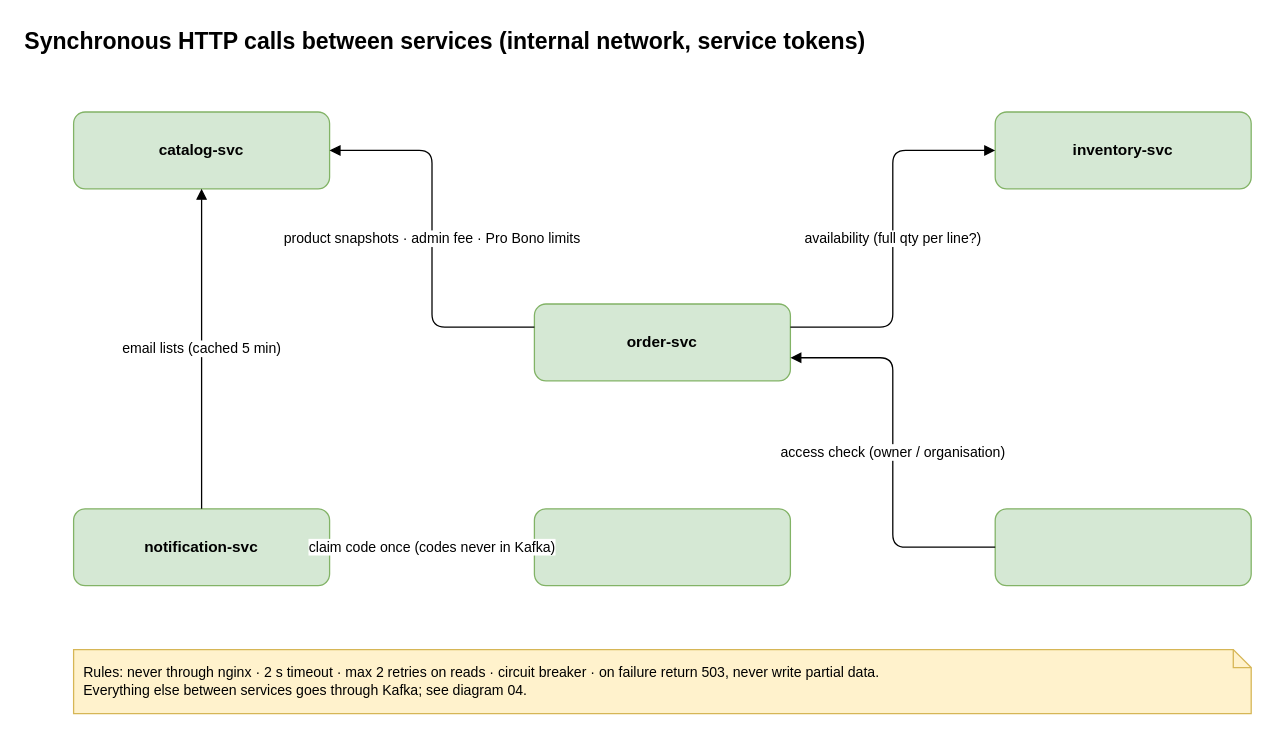
Some shapes in this 1274 by 736 pixel diagram are drawn without their labels. Here are the shapes that lost their labels. From the top down, the box of each, then its label:
(533, 508, 790, 586): identity-svc
(994, 508, 1251, 586): document-svc
